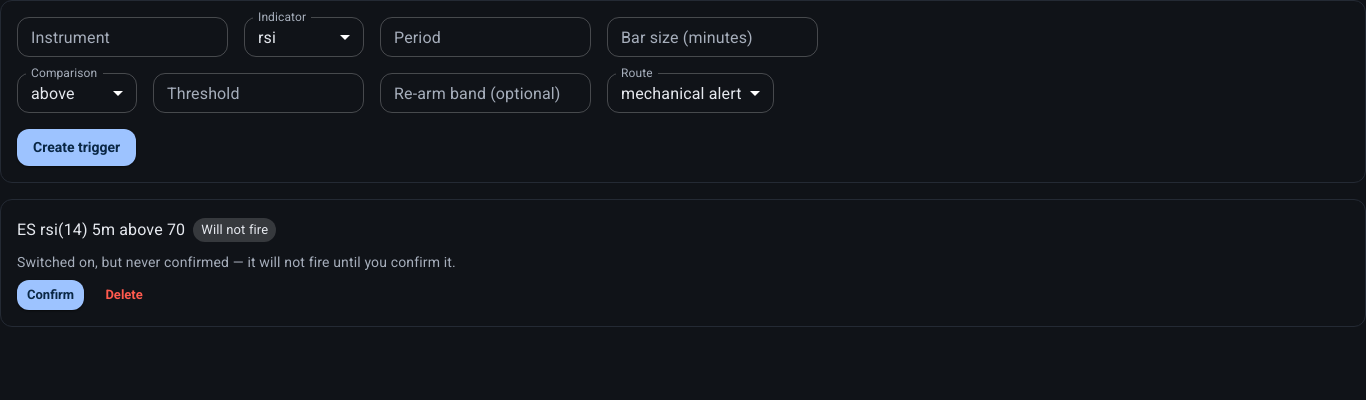
Scenario: TriggersSurface › confirm — the invariants both row actions share › a THROW leaves the row present and its buttons usable — never stranded busy
This screenshot has width=1366, height=400.
What coordinates should you click on to do the following:
click the button "Confirm "
I would click on:
 (51, 295)
Its box is [17, 280, 84, 310].
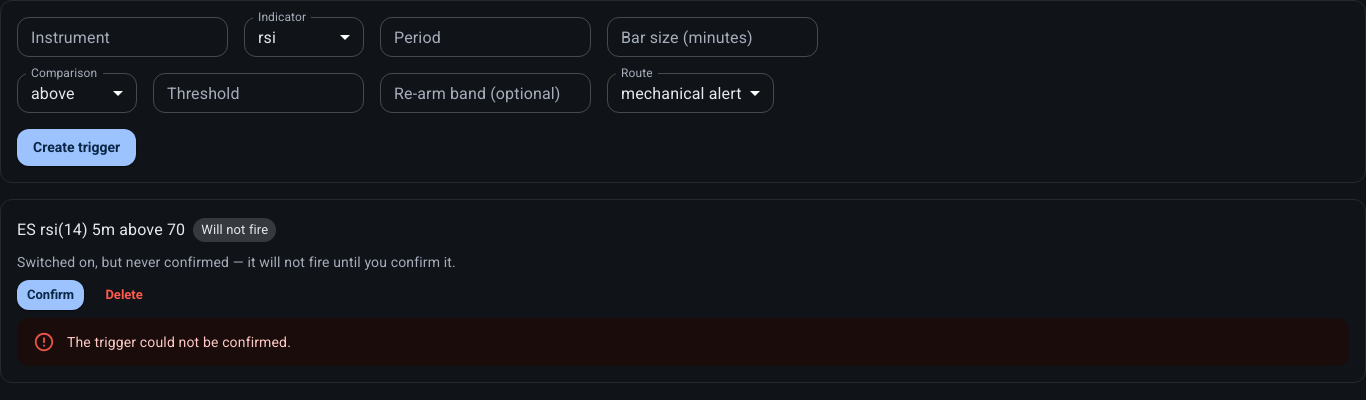
Expected: the element with test id "trigger-row" is shown, [0, 198, 1365, 383]
Result: the message "The trigger could not be confirmed." is shown at [17, 318, 1349, 366]
